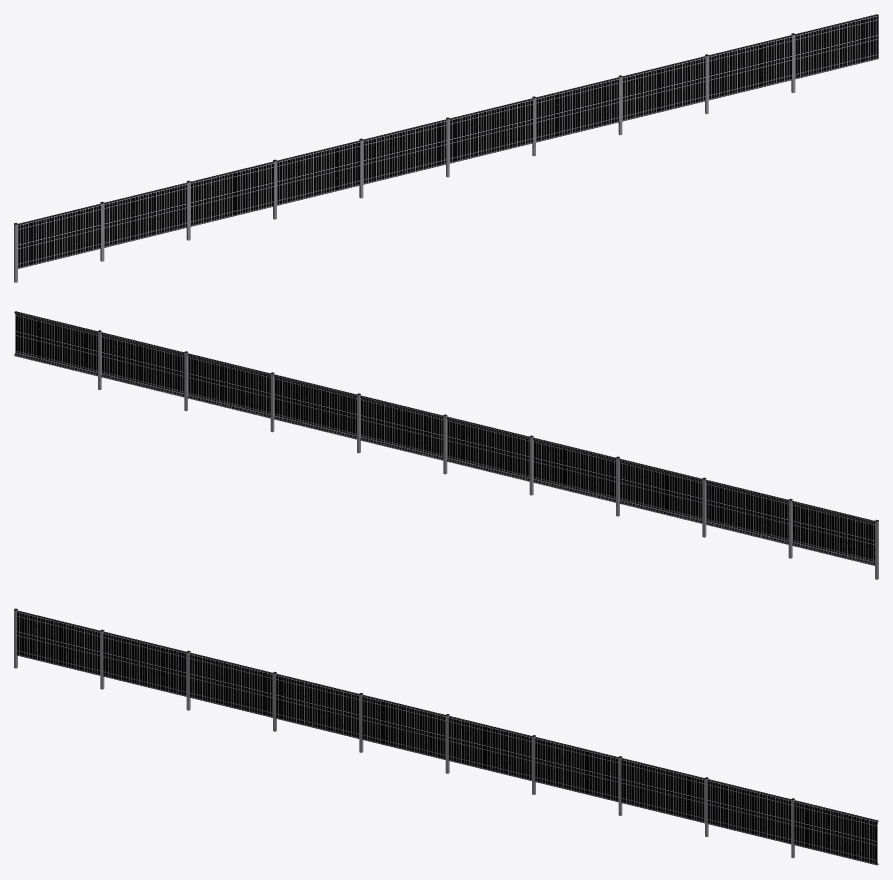
Rendered from fence-mesh-grey-10s-cbj_LOD01.gltf.
3 renders of one model, top to bottom at view 1: azimuth 30°, elevation 25°; view 2: azimuth 150°, elevation 25°; view 3: azimuth 330°, elevation 25°, orthographic.
Visible parts, largest first — view 1: post.002; view 2: post.002; view 3: post.002.
Boxes of the visible parts, <box> form: post.002: <box>14,14,878,282</box>; post.002: <box>14,311,878,579</box>; post.002: <box>14,608,878,865</box>.
Size of the model in its own units: 24.7 by 1.6 by 0.07.
